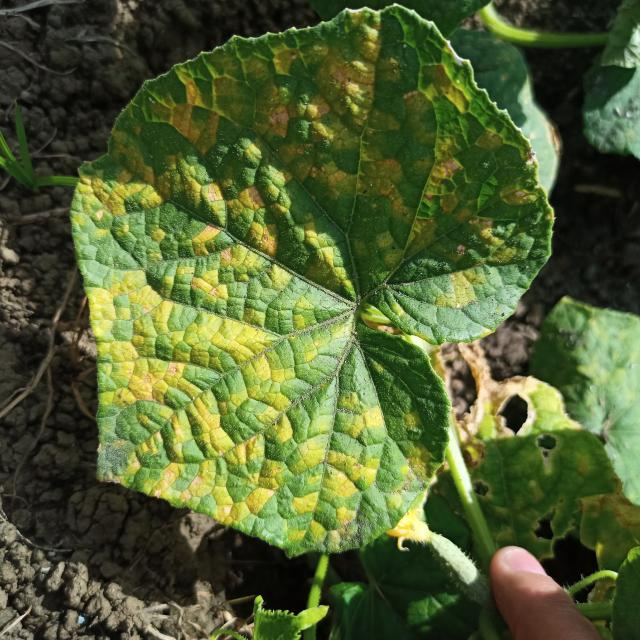disease_cucumber: (70, 15, 536, 537)
